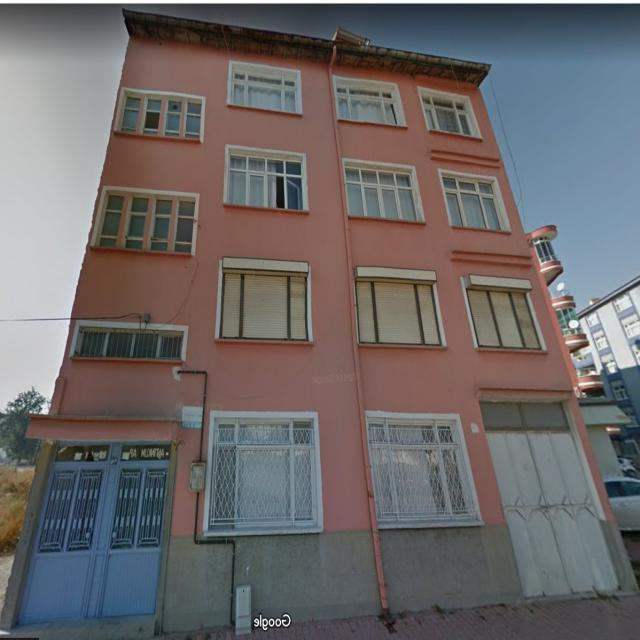Building: (0, 9, 640, 640)
